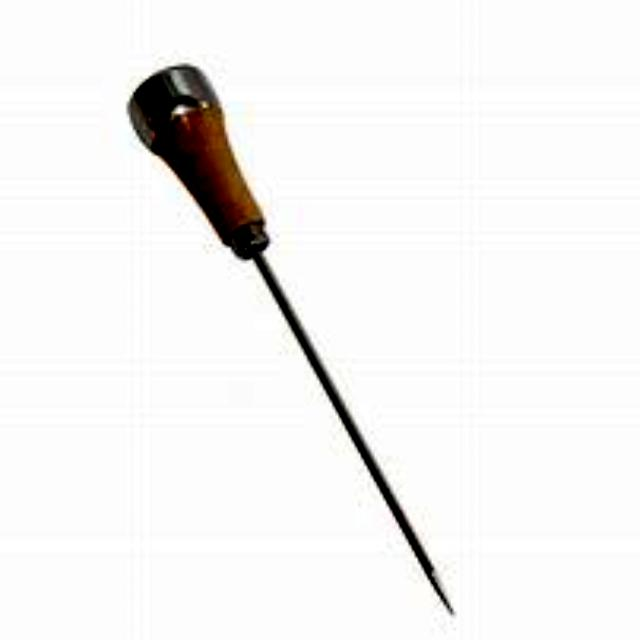ice pick: (124, 60, 452, 608)
